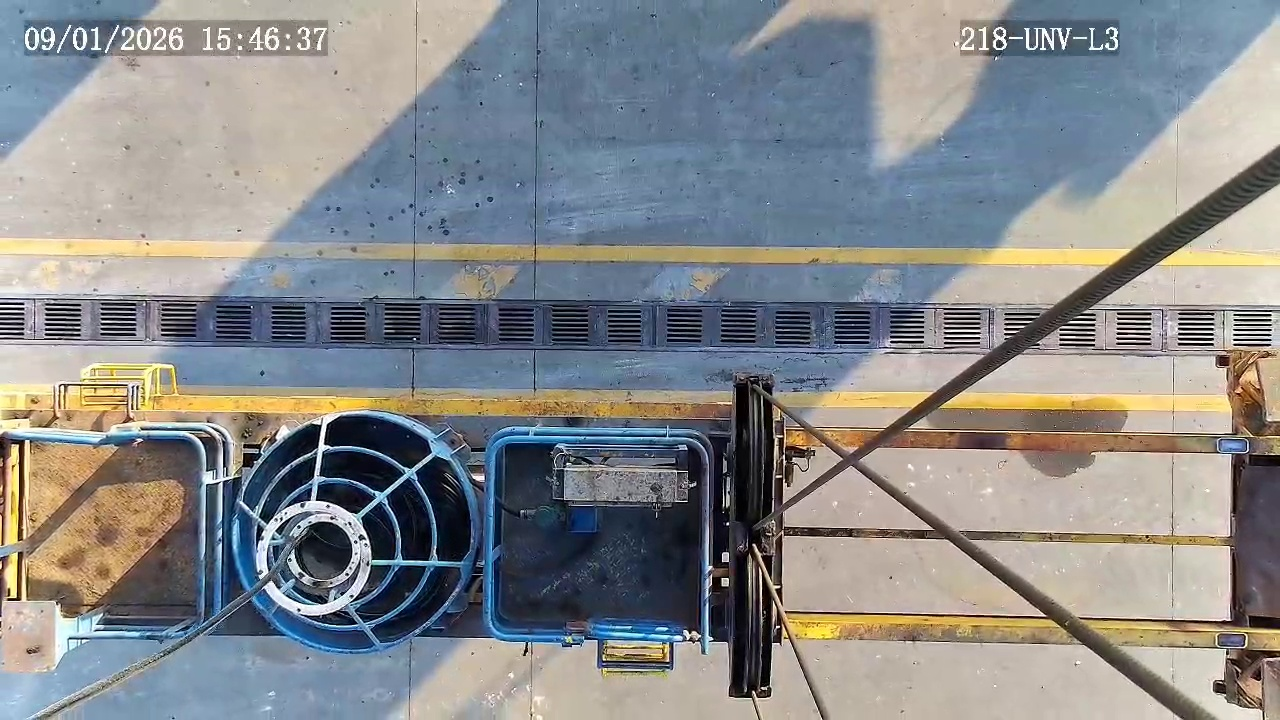right: (230, 410, 474, 652)
